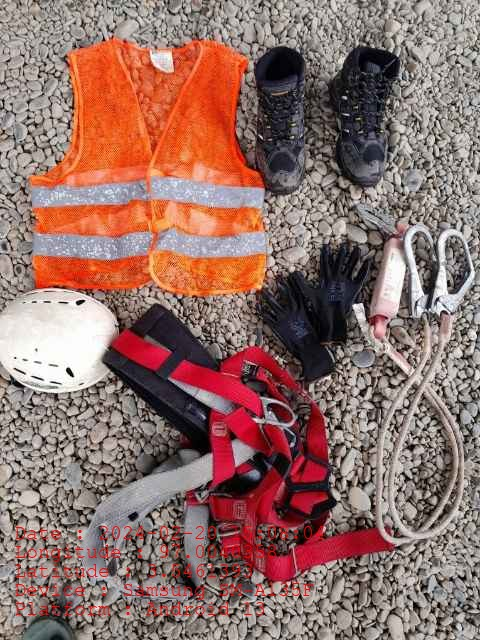HELM: (2, 288, 118, 394)
ROMPI: (48, 41, 253, 296)
SARUNG_TANGAN: (297, 238, 373, 342)
SEPATU: (253, 46, 401, 192)
TAMBANG_SLING: (374, 226, 475, 542)
